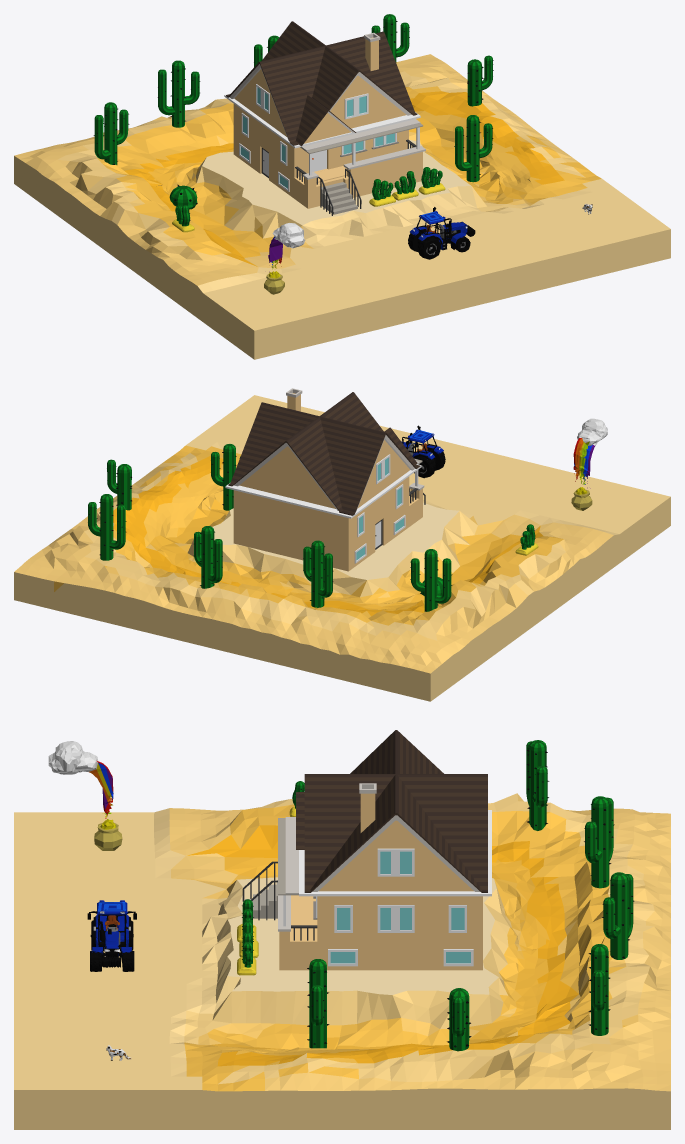
The picture shows the model from 3 angles, top to bottom: view 1: azimuth 30°, elevation 25°; view 2: azimuth 150°, elevation 25°; view 3: azimuth 270°, elevation 25°; orthographic projection. The views are drawn at different scales.
Parts seen in each view (by area): view 1: Cube.001, Cube.235, VEHICLES_TRACTOR, Cylinder.037, Cylinder.044, Cylinder.045, OBJRANDOM_RAINBOW, Cylinder.038, Cylinder.042, Cylinder.039, Cylinder.041, Sphere.023 (+1 smaller); view 2: Cube.001, Cube.235, Cylinder.042, Cylinder.045, OBJRANDOM_RAINBOW, Cylinder.044, Cylinder.043, VEHICLES_TRACTOR, Cylinder.037, Cylinder.038; view 3: Cube.001, Cube.235, VEHICLES_TRACTOR, OBJRANDOM_RAINBOW, Cylinder.043, Cylinder.044, Cylinder.045, Cylinder.042, Cylinder.037, Cylinder.038, Cylinder.041.
Part boxes in pixels (x1=…): Cube.001: x1=14, y1=54, x2=670, y2=359; Cube.235: x1=224, y1=21, x2=425, y2=215; VEHICLES_TRACTOR: x1=408, y1=207, x2=475, y2=259; Cylinder.037: x1=454, y1=115, x2=493, y2=182; Cylinder.044: x1=157, y1=60, x2=200, y2=127; Cylinder.045: x1=93, y1=102, x2=129, y2=164; OBJRANDOM_RAINBOW: x1=264, y1=223, x2=305, y2=294; Cylinder.038: x1=467, y1=55, x2=493, y2=106; Cylinder.042: x1=371, y1=14, x2=409, y2=62; Cylinder.039: x1=369, y1=179, x2=395, y2=206; Cylinder.041: x1=418, y1=167, x2=445, y2=194; Sphere.023: x1=169, y1=184, x2=197, y2=209; Cube.001: x1=14, y1=395, x2=670, y2=701; Cube.235: x1=225, y1=388, x2=425, y2=571; Cylinder.042: x1=88, y1=494, x2=126, y2=560; Cylinder.045: x1=410, y1=549, x2=452, y2=611; OBJRANDOM_RAINBOW: x1=571, y1=418, x2=607, y2=510; Cylinder.044: x1=303, y1=540, x2=333, y2=607; Cylinder.043: x1=193, y1=526, x2=222, y2=588; VEHICLES_TRACTOR: x1=401, y1=425, x2=445, y2=478; Cylinder.037: x1=211, y1=444, x2=240, y2=510; Cylinder.038: x1=107, y1=459, x2=131, y2=510; Cube.001: x1=14, y1=793, x2=670, y2=1129; Cube.235: x1=242, y1=730, x2=491, y2=970; VEHICLES_TRACTOR: x1=87, y1=900, x2=136, y2=971; OBJRANDOM_RAINBOW: x1=48, y1=741, x2=122, y2=850; Cylinder.043: x1=602, y1=872, x2=634, y2=959; Cylinder.044: x1=584, y1=796, x2=614, y2=888; Cylinder.045: x1=526, y1=740, x2=549, y2=830; Cylinder.042: x1=588, y1=944, x2=610, y2=1035; Cylinder.037: x1=307, y1=959, x2=329, y2=1048; Cylinder.038: x1=447, y1=988, x2=471, y2=1051; Cylinder.041: x1=237, y1=932, x2=256, y2=975.
Size of the model in its own units: 4002 by 1643 by 4001.
37 materials, 2 textured.
